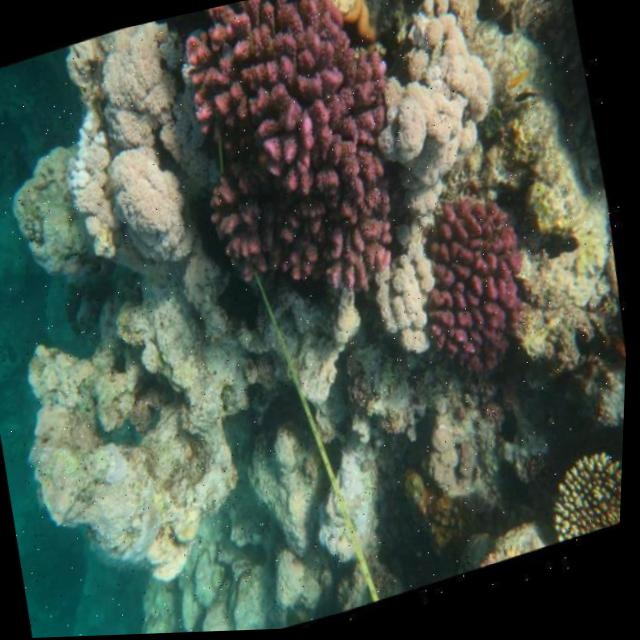Bleached Coral: (346, 0, 520, 228), (373, 231, 454, 361)
Healthy Coral: (161, 0, 428, 311), (400, 187, 568, 424), (543, 422, 627, 551)
